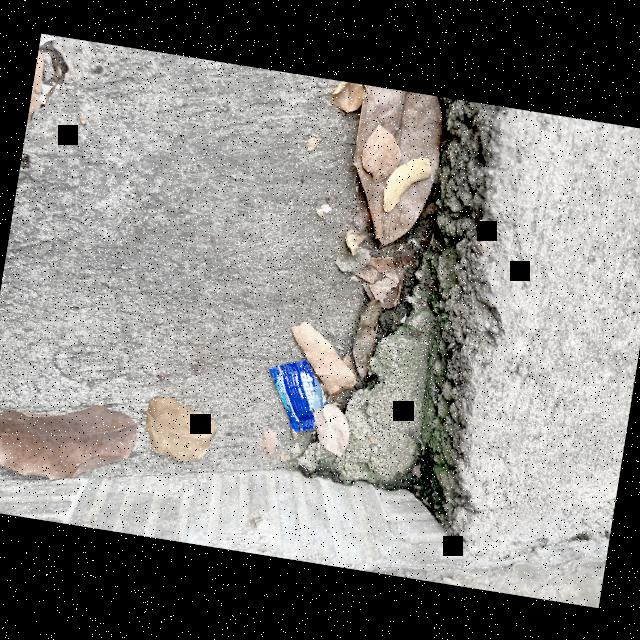scrap_plastic: (252, 346, 340, 442)
